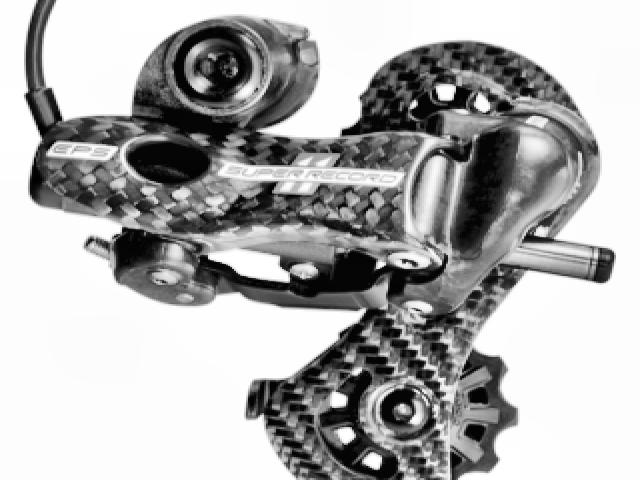rear_derailleur: (10, 2, 614, 480)
